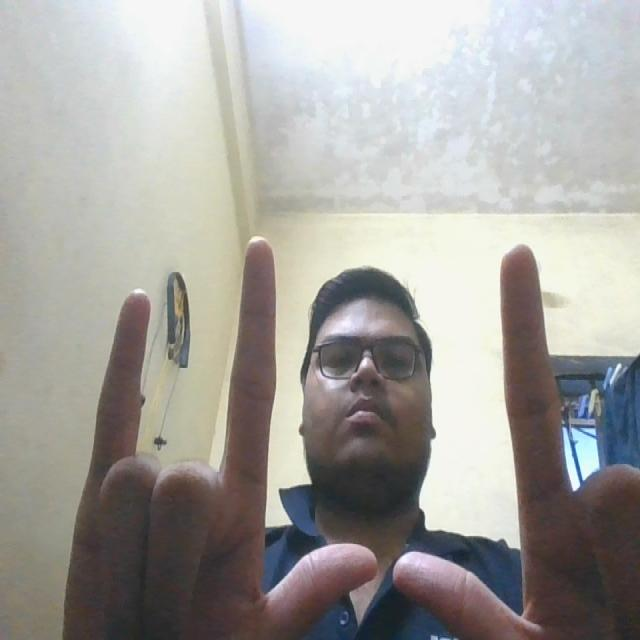iloveyou: (74, 231, 383, 639)
